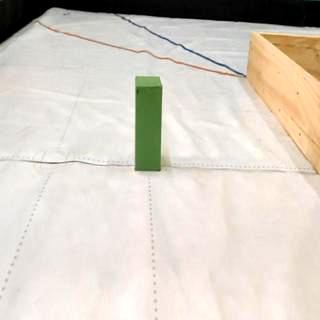greenbox: (132, 74, 164, 172)
